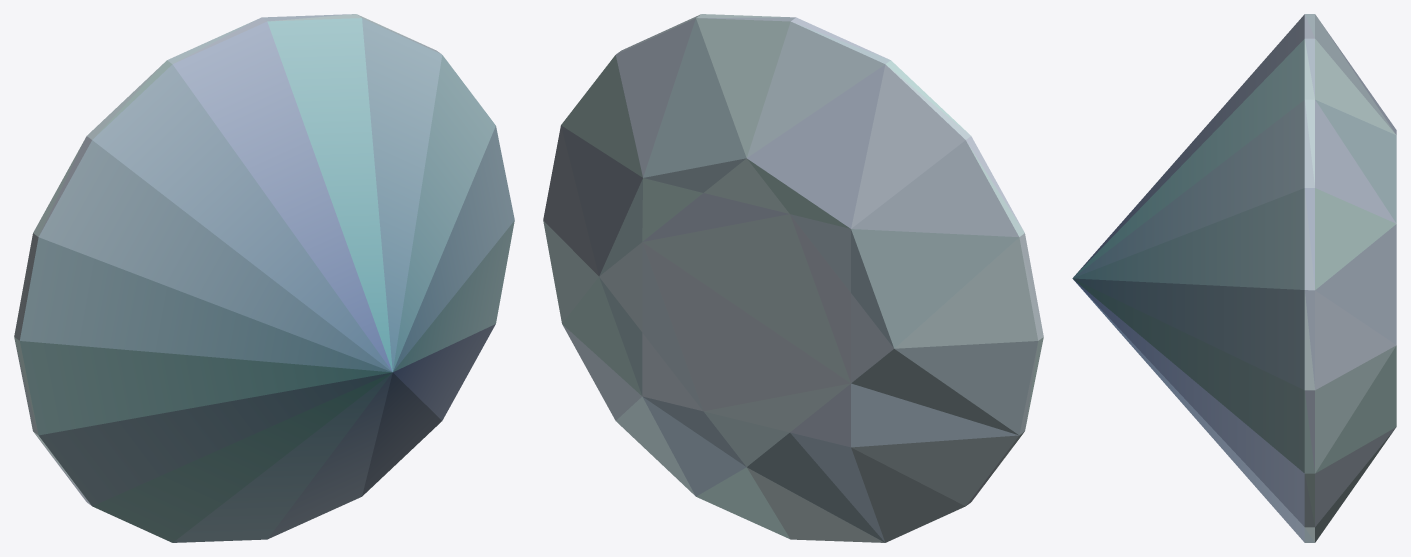
The model's file is Diamond.003.glb.
The picture shows the model from 3 angles, left to right: view 1: azimuth 30°, elevation 25°; view 2: azimuth 150°, elevation 25°; view 3: azimuth 270°, elevation 25°; orthographic projection. The views are drawn at different scales.
Parts seen in each view (by area): view 1: Diamond.003; view 2: Diamond.003; view 3: Diamond.003.
Part boxes in pixels (x1,y1,x2,y2): Diamond.003: (14, 14, 514, 542); Diamond.003: (543, 14, 1043, 542); Diamond.003: (1072, 14, 1396, 542).
Size of the model in its own units: 91.88 by 91.88 by 56.28.
